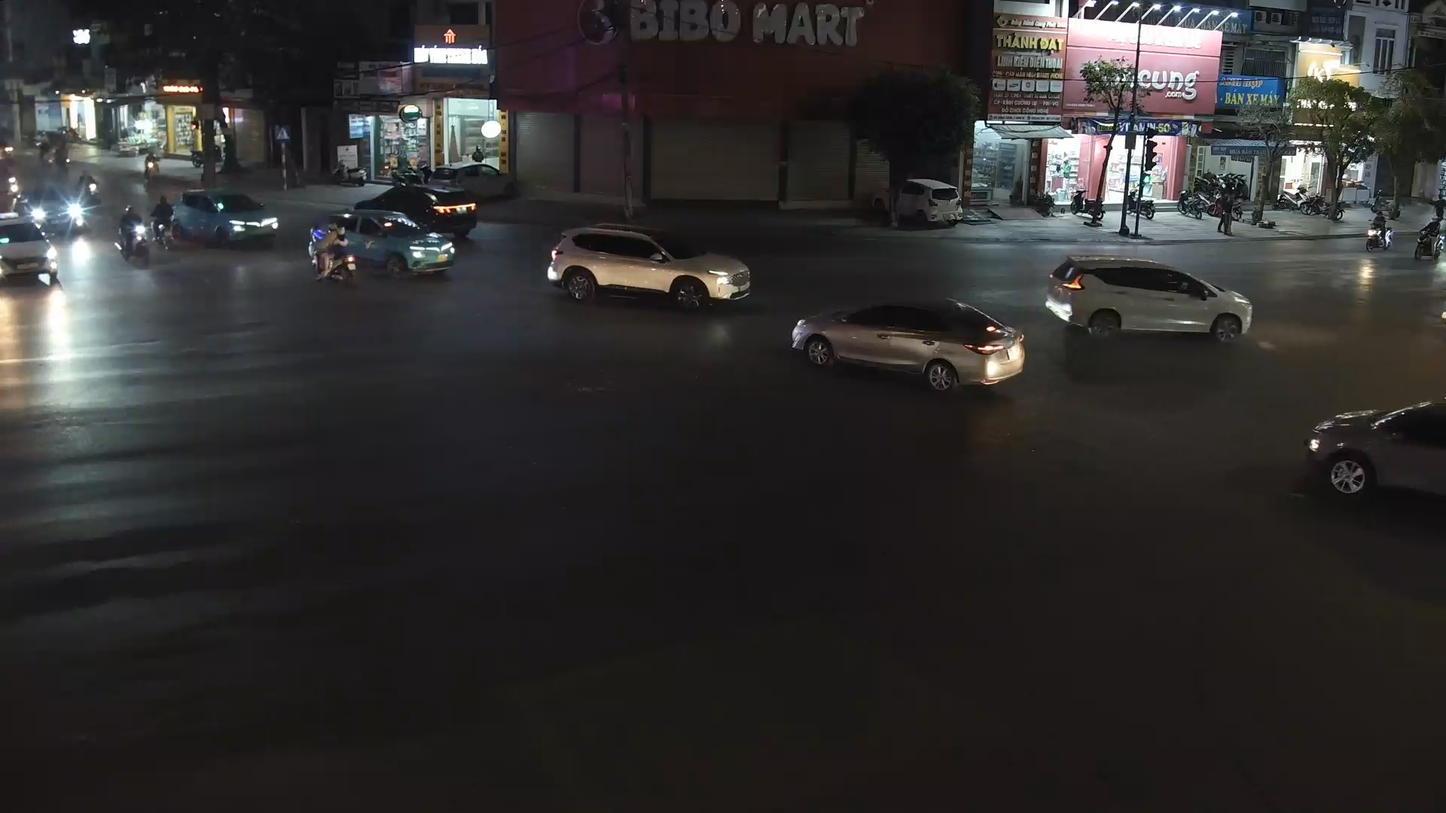car: (789, 296, 1026, 394), (1046, 251, 1257, 345), (546, 224, 756, 310), (1304, 398, 1445, 515), (307, 200, 457, 281), (166, 184, 280, 251), (0, 209, 61, 290)
motorbike: (114, 201, 153, 266), (149, 190, 175, 250)
